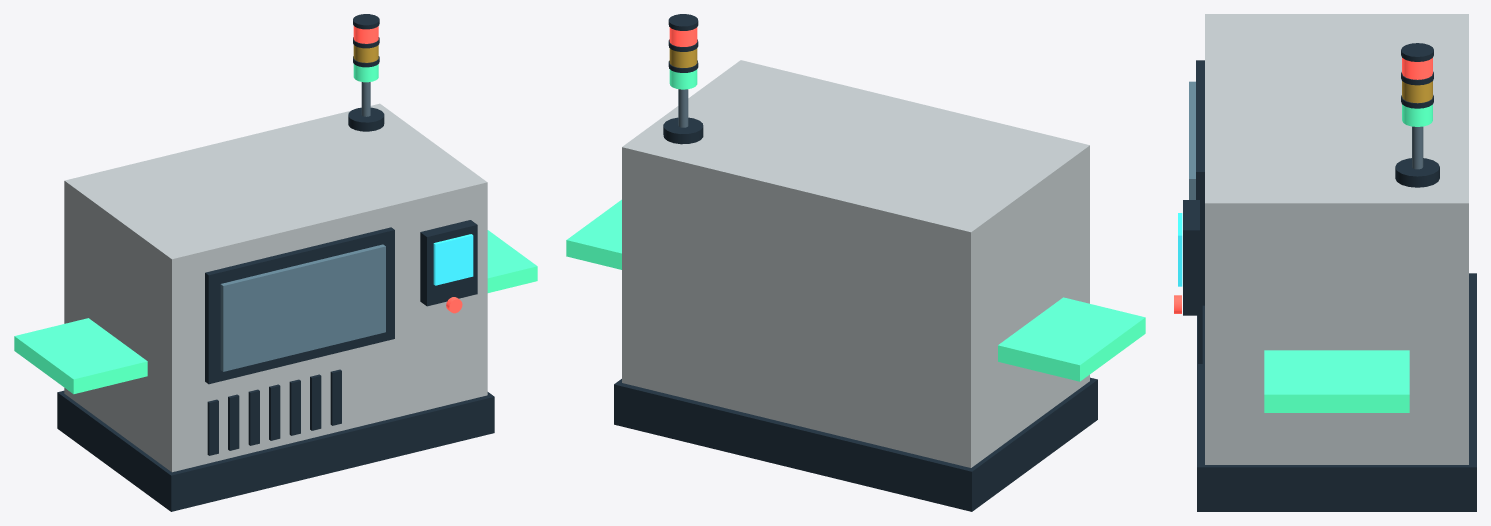
Rendered from production-machine.7f03127ce0a0.glb.
The picture shows the model from 3 angles, left to right: view 1: azimuth 30°, elevation 25°; view 2: azimuth 150°, elevation 25°; view 3: azimuth 270°, elevation 25°; orthographic projection. The views are drawn at different scales.
Visible parts, largest first — view 1: machine_body_0002, base_0001, inspection_window_0004, inspection_window_frame_0003, conveyor_0015, display_frame_0005, conveyor_0016, display_0006, mount_0018, vent_0008, vent_0010, vent_0012 (+4 smaller); view 2: machine_body_0002, base_0001, conveyor_0015, conveyor_0016, mount_0018; view 3: machine_body_0002, base_0001, conveyor_0016, display_frame_0005, inspection_window_frame_0003, mount_0018, inspection_window_0004, signal_0020, signal_0024, signal_0022, separator_0025, pole_0019 (+1 smaller).
Part boxes in pixels (x1,y1,x2,y2): machine_body_0002: (64,103,487,472); base_0001: (57,390,494,511); inspection_window_0004: (220,244,385,371); inspection_window_frame_0003: (205,227,394,384); conveyor_0015: (14,318,147,394); display_frame_0005: (420,220,477,306); conveyor_0016: (487,230,537,292); display_0006: (433,234,473,285); mount_0018: (348,107,384,131); vent_0008: (207,399,218,455); vent_0010: (248,389,259,445); vent_0012: (289,379,300,435); machine_body_0002: (622,60,1089,467); base_0001: (614,377,1097,511); conveyor_0015: (998,297,1145,381); conveyor_0016: (566,199,621,269); mount_0018: (663,117,703,144); machine_body_0002: (1205,14,1468,464); base_0001: (1197,273,1476,511); conveyor_0016: (1264,350,1409,412); display_frame_0005: (1183,200,1199,315); inspection_window_frame_0003: (1196,60,1204,305); mount_0018: (1395,158,1439,187); inspection_window_0004: (1189,81,1195,199); signal_0020: (1402,104,1432,126); signal_0024: (1402,58,1432,79); signal_0022: (1402,81,1432,103); separator_0025: (1401,43,1433,61); pole_0019: (1412,126,1423,169).
Size of the model in its own units: 2.94 by 2.16 by 1.35.
